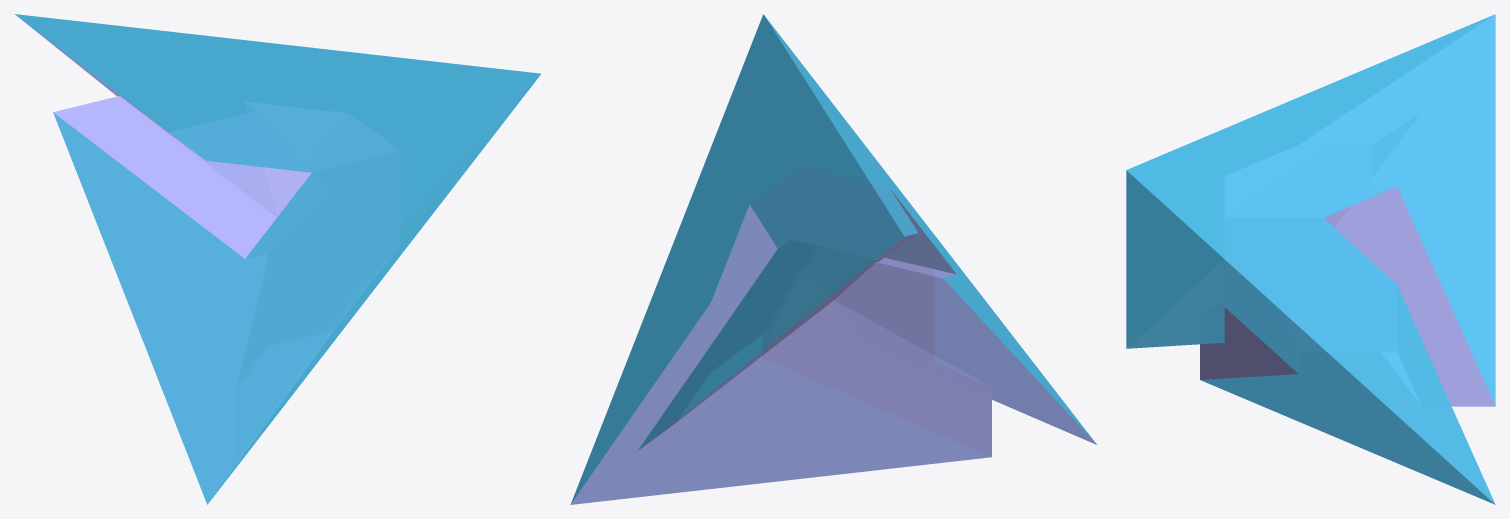
Rendered from HeptagonalDodecahedron_B.obj.
The picture shows the model from 3 angles, left to right: view 1: azimuth 30°, elevation 25°; view 2: azimuth 150°, elevation 25°; view 3: azimuth 270°, elevation 25°; orthographic projection. The views are drawn at different scales.
Bounding box in the file's own units: 30 × 30 × 30.
